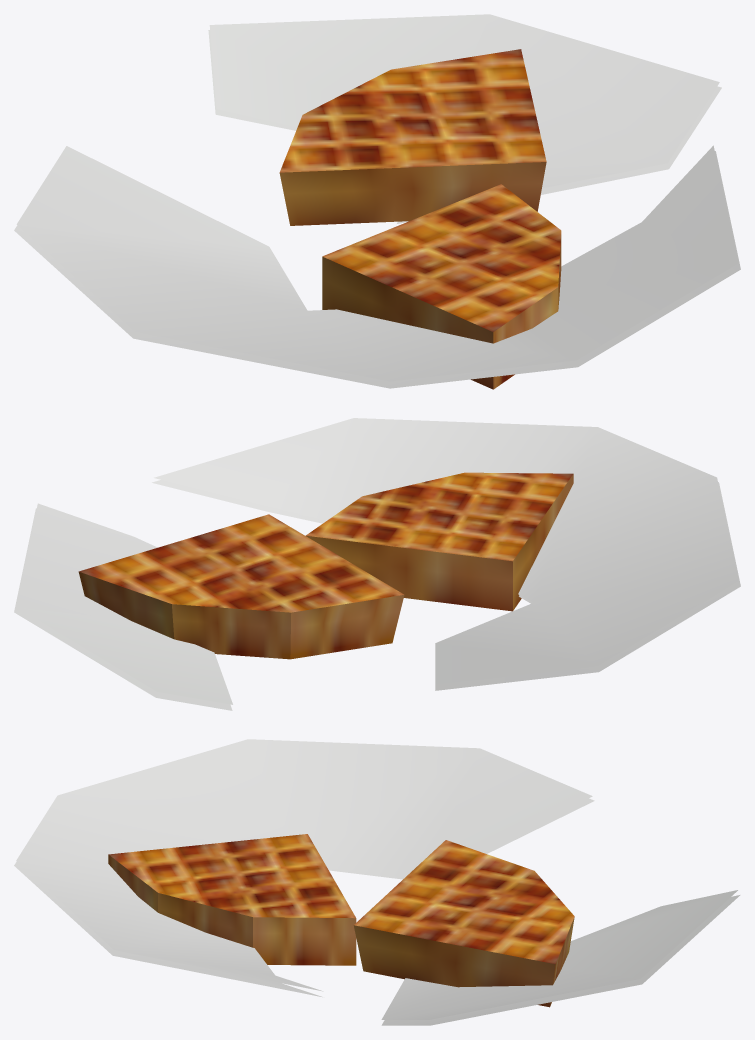
File: Waffles_V2.fbx
The picture shows the model from 3 angles, top to bottom: view 1: azimuth 30°, elevation 25°; view 2: azimuth 150°, elevation 25°; view 3: azimuth 270°, elevation 25°; orthographic projection. The views are drawn at different scales.
Visible parts, largest first — view 1: Waffles_V2; view 2: Waffles_V2; view 3: Waffles_V2.
Boxes of the visible parts, box(x1,y1,x2,y2) form: Waffles_V2: box(14, 14, 740, 389); Waffles_V2: box(14, 418, 740, 710); Waffles_V2: box(14, 739, 740, 1025).
Size of the model in its own units: 0.2433 by 0.0234 by 0.2647.
